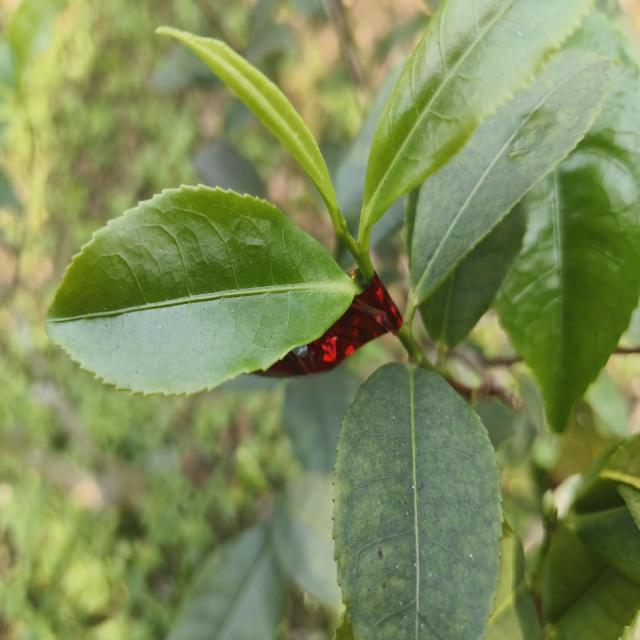Leaf: (46, 185, 359, 394), (497, 13, 640, 431), (359, 0, 593, 237), (410, 51, 613, 304), (333, 363, 502, 640), (156, 27, 338, 219), (168, 523, 287, 640), (542, 528, 640, 640), (272, 471, 342, 610), (283, 365, 361, 473), (483, 527, 541, 640), (8, 0, 65, 73), (194, 139, 264, 197), (245, 23, 293, 64)
